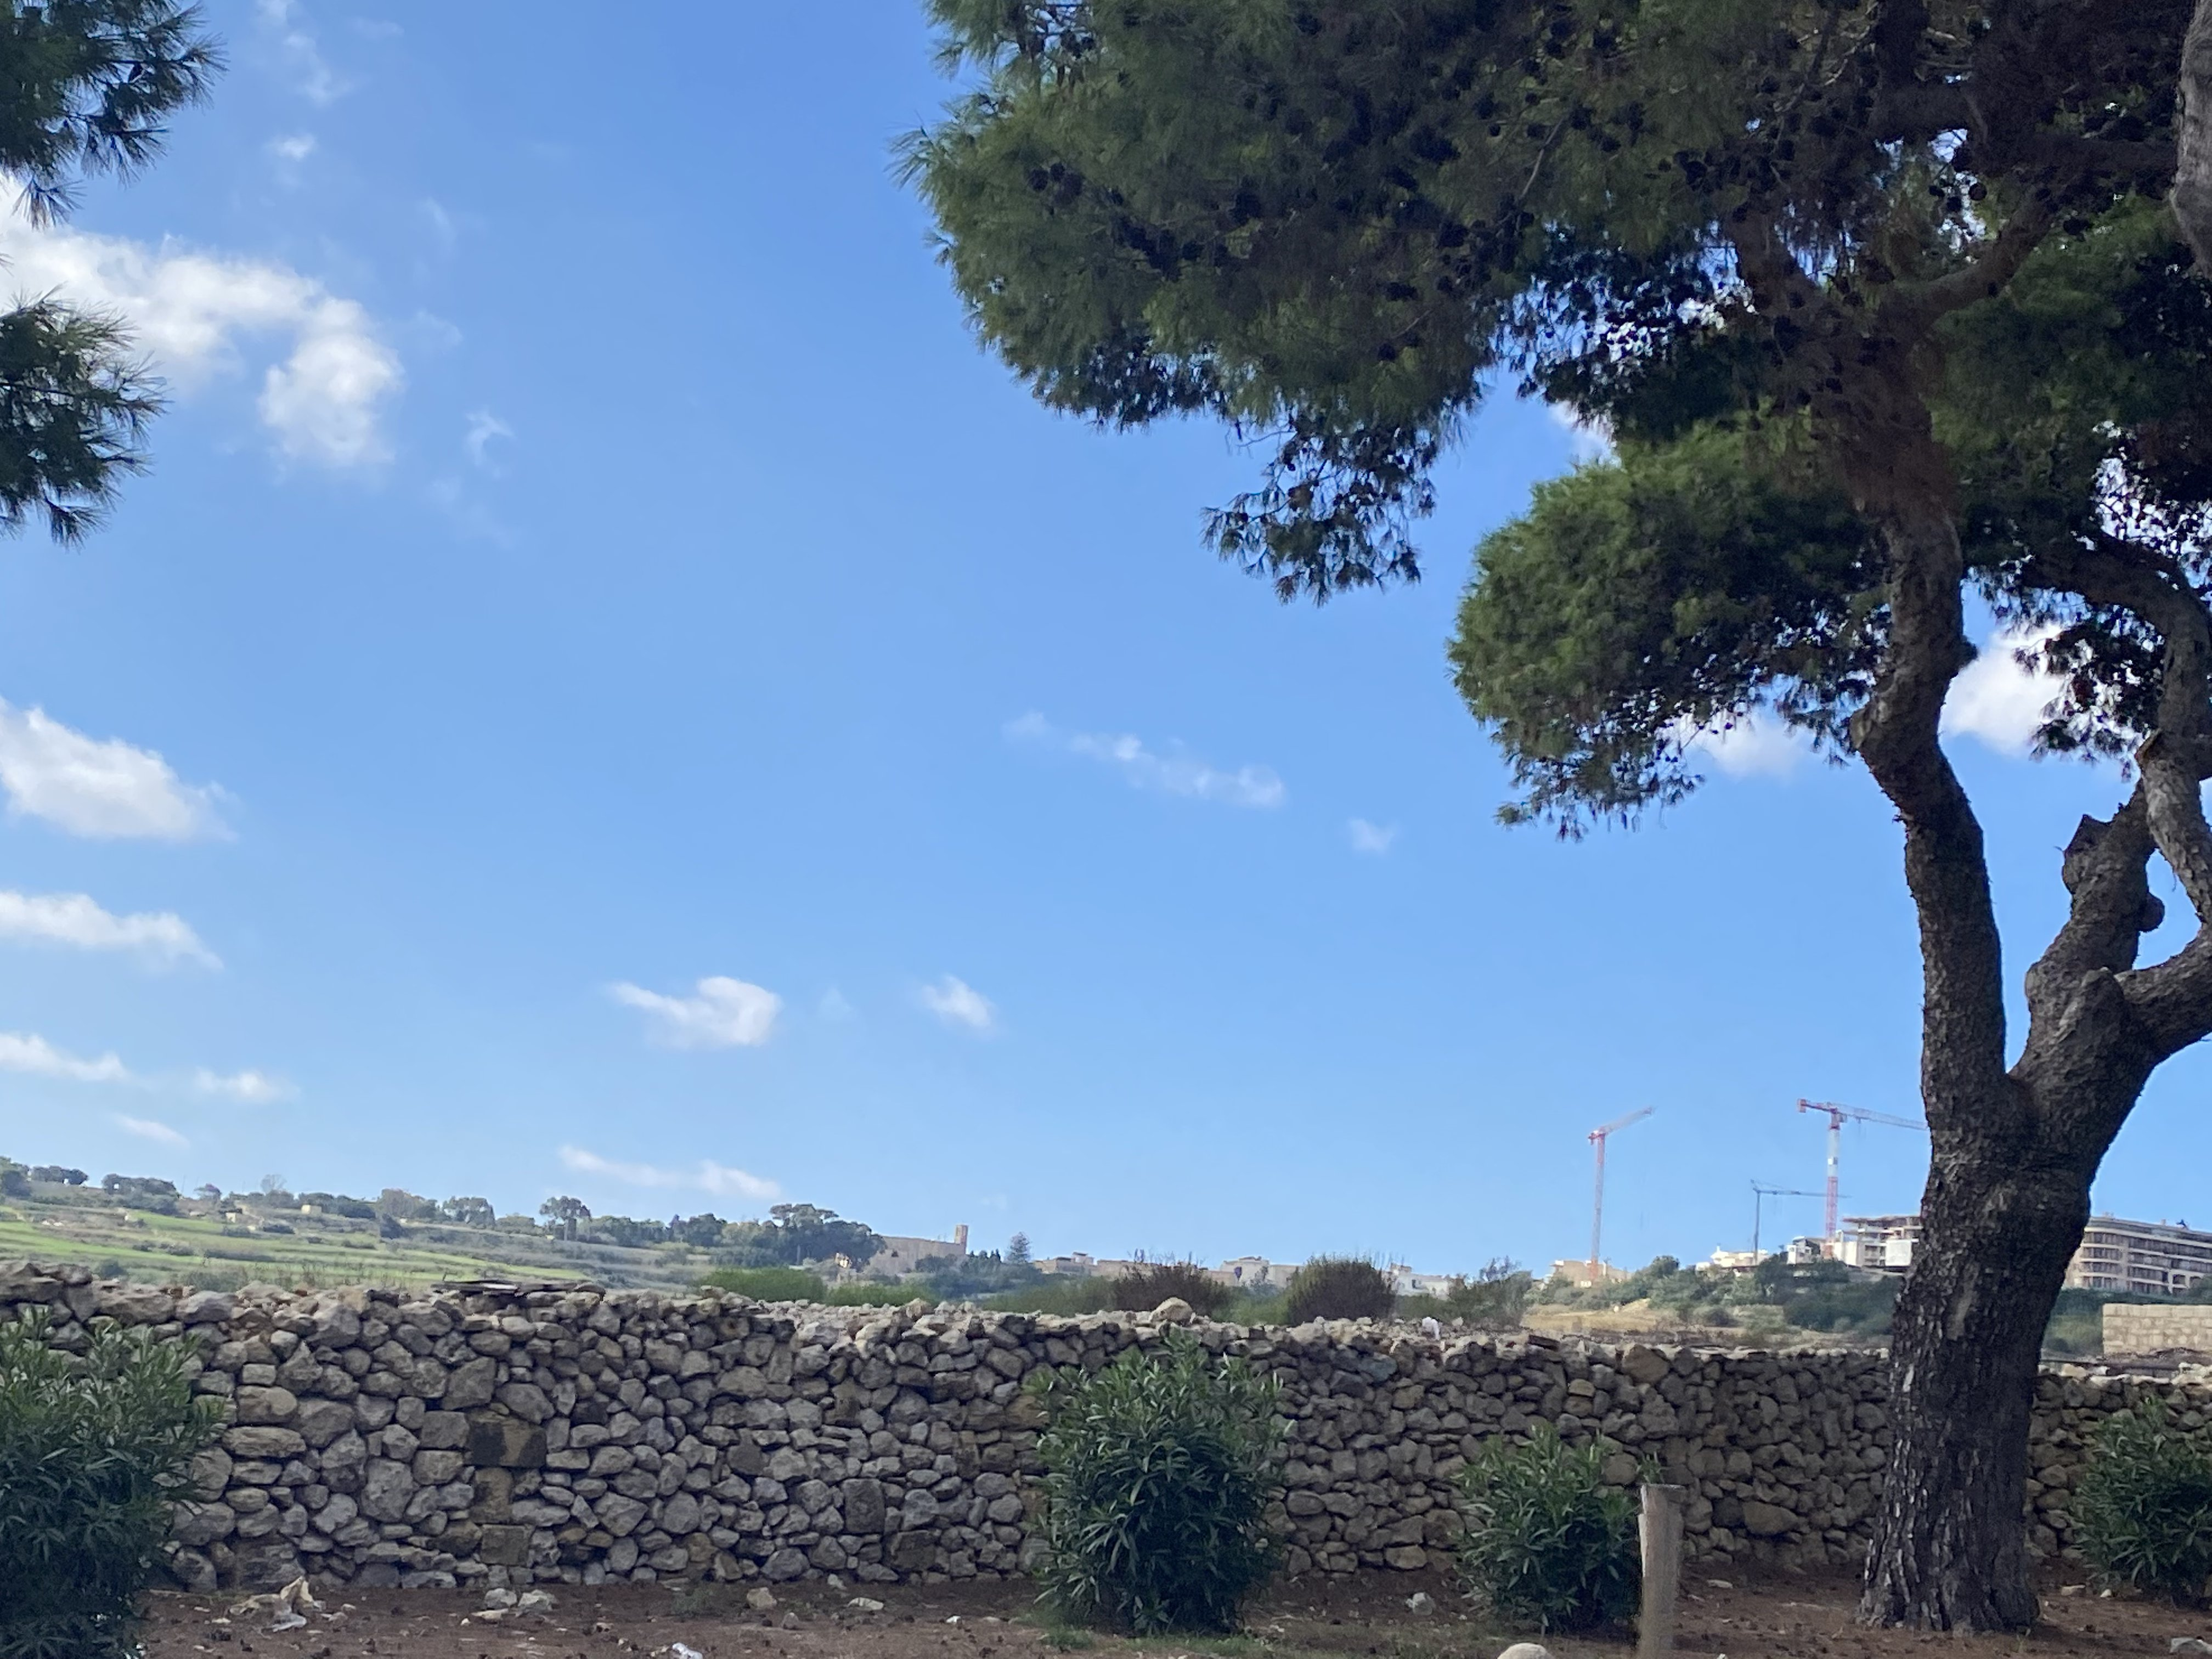crane: (1550, 1073, 1680, 1245), (1779, 1093, 1921, 1229)
